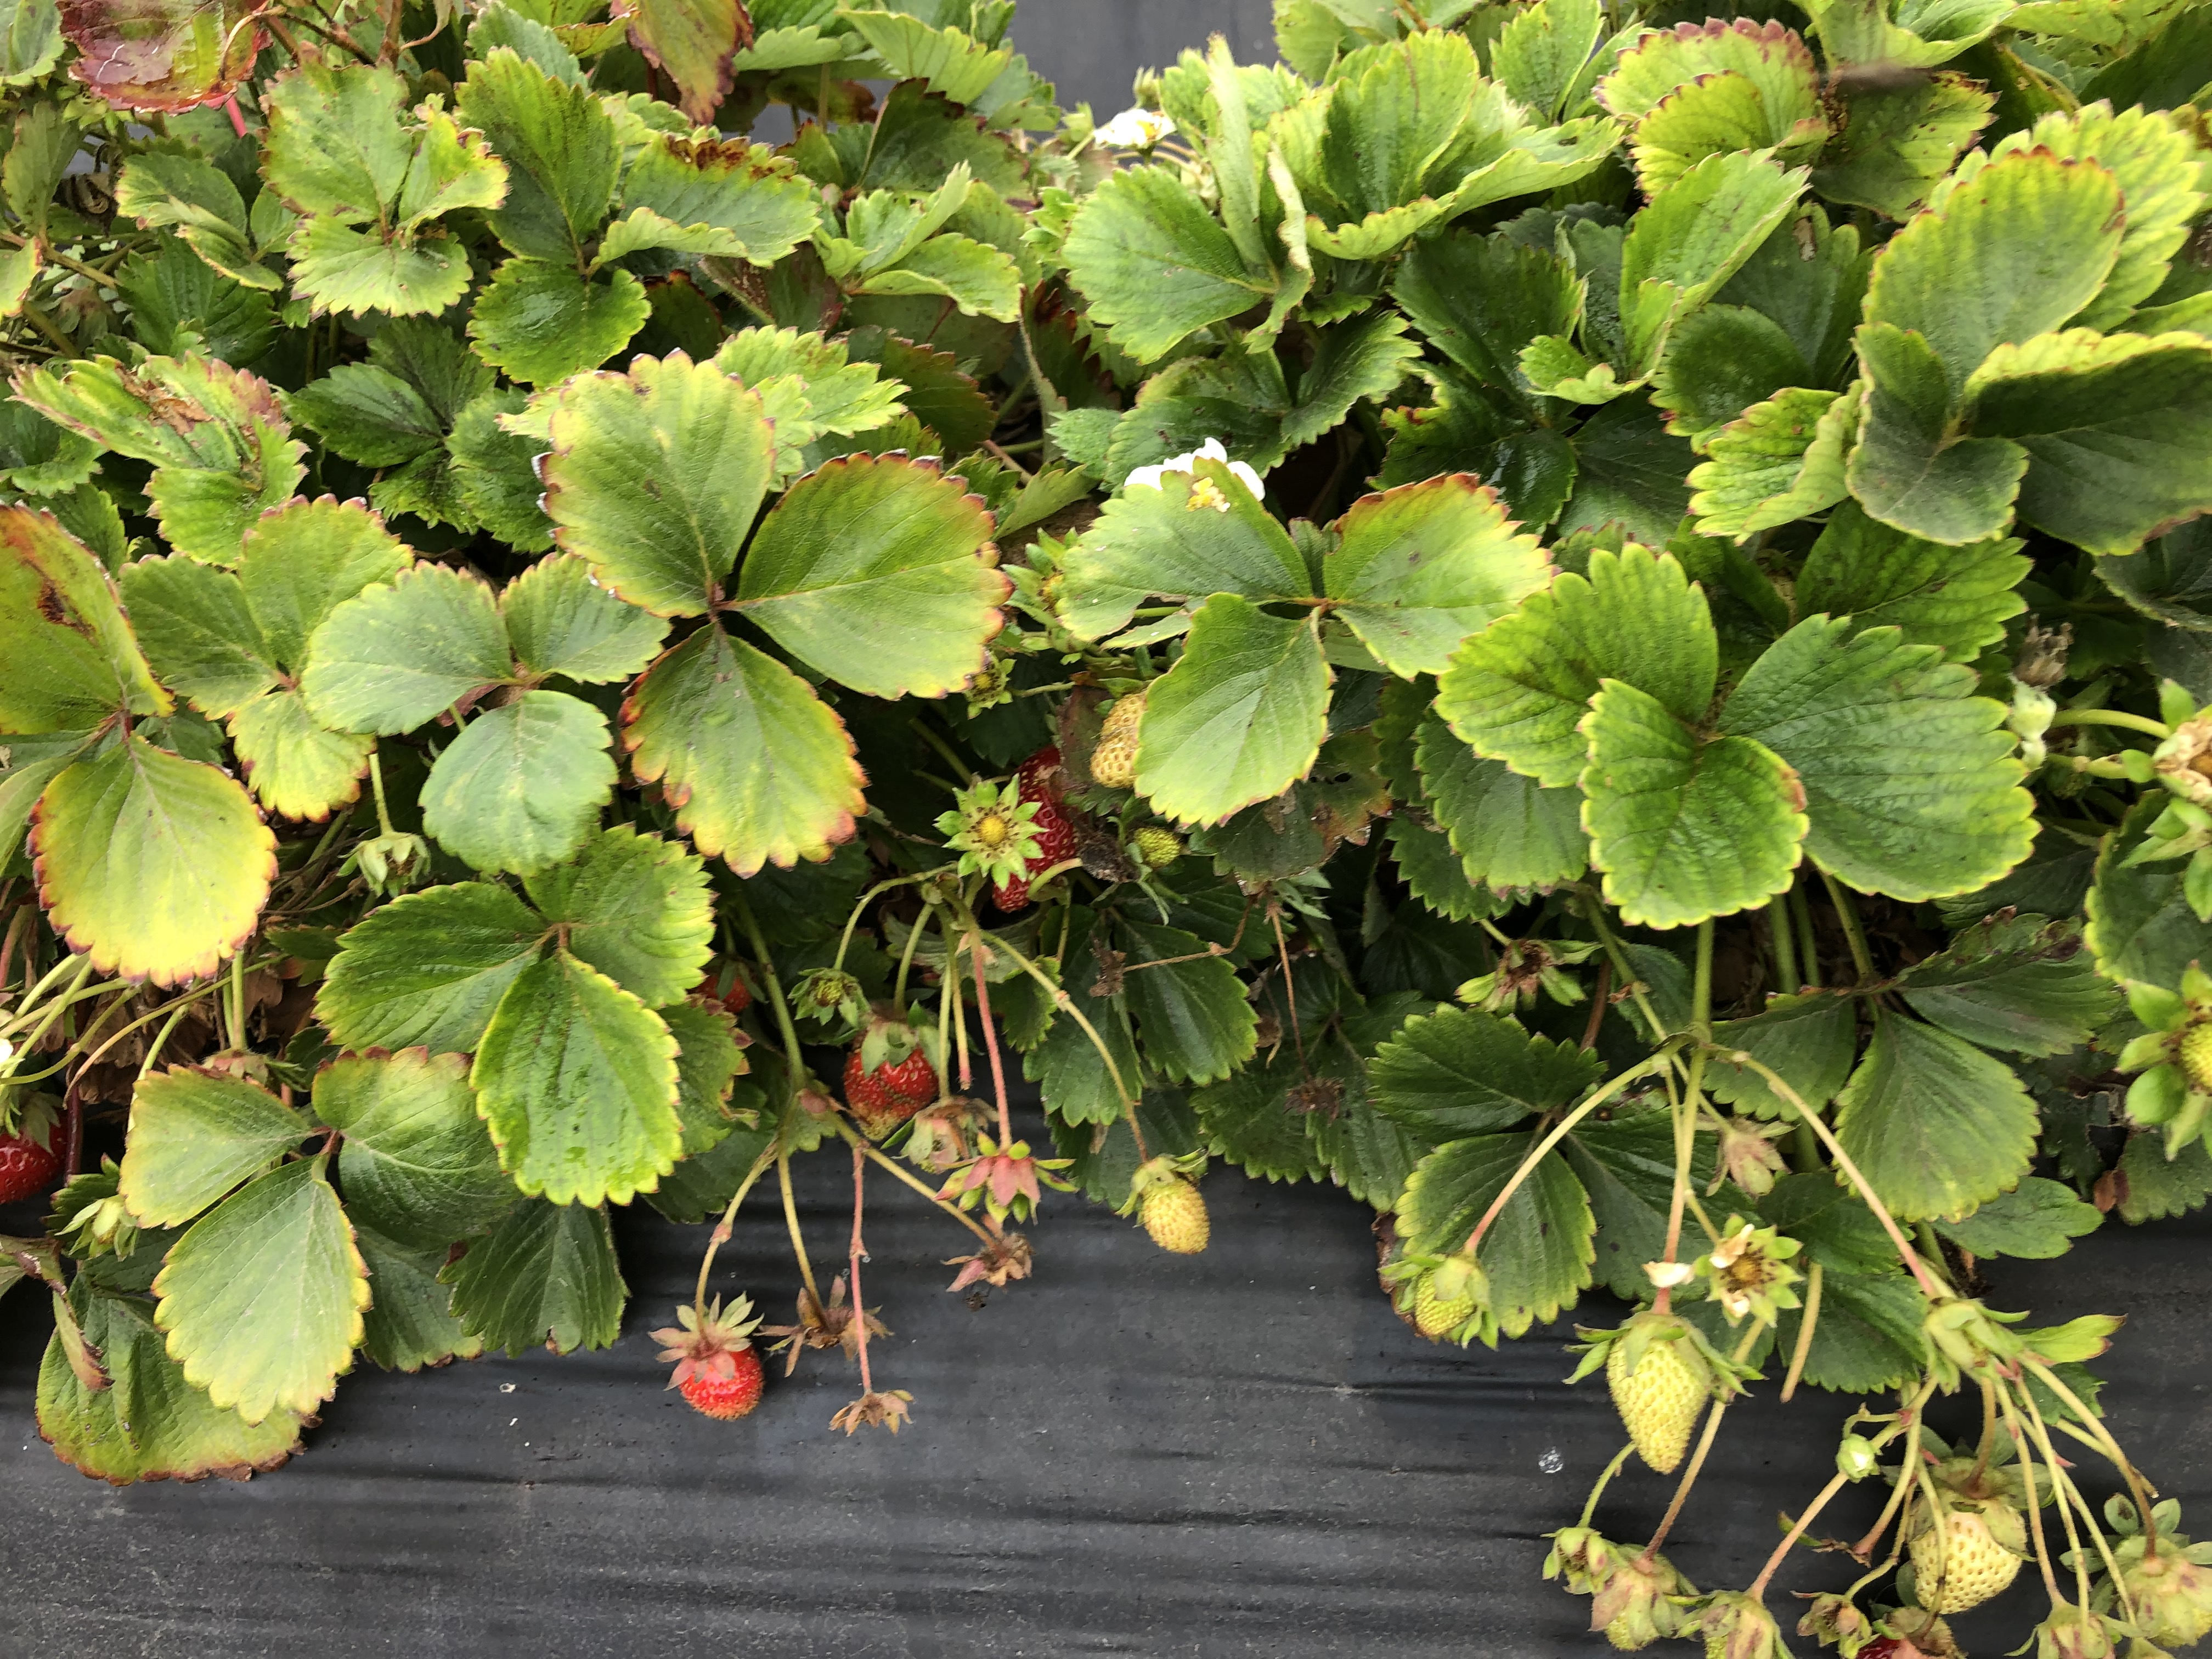ripe_strawberry: (988, 739, 1083, 915), (841, 1014, 941, 1141), (0, 1084, 73, 1215), (1089, 688, 1148, 789), (1846, 1628, 1965, 1659)
unripe_strawberry: (1604, 1307, 1719, 1478), (1909, 1481, 2029, 1617), (1594, 1542, 1683, 1654), (671, 1324, 768, 1425), (2134, 1547, 2212, 1659), (1130, 1162, 1217, 1255), (1407, 1260, 1487, 1344), (2167, 990, 2212, 1107), (1703, 1595, 1775, 1659)
